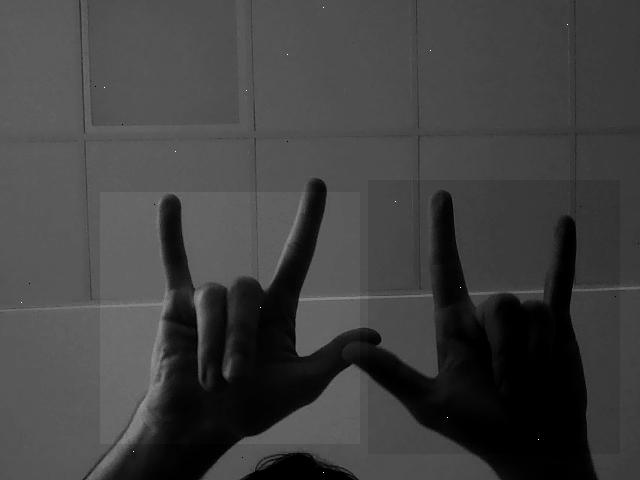I_Love_You: (368, 180, 620, 454), (100, 192, 360, 444)
